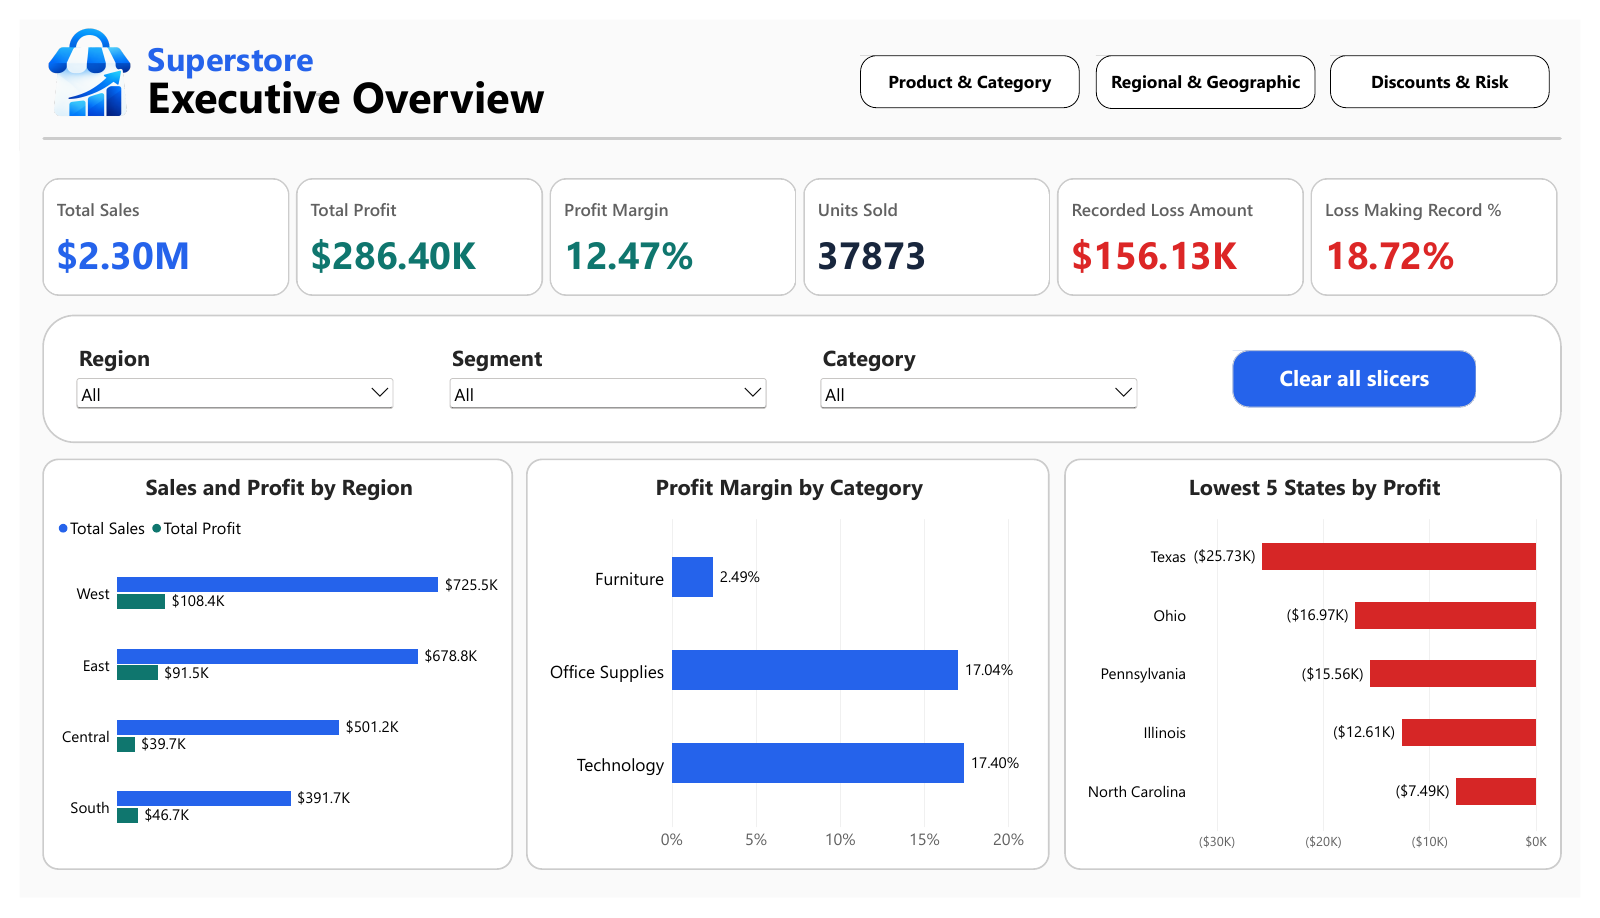

Layout of this report page (visuals, bound fields, positions):
{"tool":"powerbi","page":{"name":"Executive Overview","canvas":[1920,1080],"ordinal":0},"visuals":[{"type":"cardVisual","fields":{"Data":["Superstore.Total Sales","Superstore.Total Profit","Superstore.Profit Margin","Superstore.Units Sold","Superstore.Loss Amount","Superstore.Loss Record Share"]},"box":[28.3,194.7,1869,145.1],"z":0},{"type":"shape","box":[28.3,362.8,1869,157.5],"z":0,"group":"g2"},{"type":"clusteredBarChart","title":"Sales and Profit by Region","fields":{"Category":["Superstore.Region"],"Y":["Superstore.Total Sales","Superstore.Total Profit"]},"box":[28.3,539.8,578.8,506.2],"z":1000},{"type":"slicer","fields":{"Values":["Superstore.Region"]},"box":[65.5,398.2,400,90],"z":2000,"group":"g2"},{"type":"clusteredBarChart","title":"Profit Margin by Category","fields":{"Category":["Superstore.Category"],"Y":["Superstore.Profit Margin"]},"box":[623,539.8,644.2,506.2],"z":2000},{"type":"slicer","fields":{"Values":["Superstore.Segment"]},"box":[523.9,398.2,400,90],"z":3000,"group":"g2"},{"type":"clusteredBarChart","title":"Lowest 5 States by Profit","fields":{"Category":["Superstore.State"],"Y":["Superstore.Total Profit"]},"box":[1285,539.8,612.4,506.2],"z":3000},{"type":"actionButton","box":[1033.6,44.2,270,65],"z":4000},{"type":"slicer","fields":{"Values":["Superstore.Category"]},"box":[980.5,398.2,400,90],"z":4000,"group":"g2"},{"type":"group","id":"g1","title":"Group 1","box":[157.5,21.2,500,110],"z":5000},{"type":"actionButton","box":[1492,407,300,70],"z":5000,"group":"g2"},{"type":"actionButton","box":[1323.9,44.2,270,65.5],"z":6000},{"type":"image","box":[0,0,173.5,132.7],"z":7000},{"type":"textbox","title":"Superstore","box":[157.5,21.2,214.8,73.3],"z":8000,"group":"g1"},{"type":"actionButton","box":[1612.4,44.2,270,65],"z":8000},{"type":"shape","box":[28.3,111.5,1869,69],"z":9000},{"type":"group","id":"g2","title":"Group 2","box":[28.3,362.8,1869,157.5],"z":10000},{"type":"textbox","title":"Executive Overview","box":[157.5,57.9,500,73.3],"z":17001,"group":"g1"}]}

Visuals, with their boxes in screenshot pixels (x1, y1, x2, y2), scaled from the page's 1920x1080 canvas onto the 1600x918 screenshot:
cardVisual - Superstore.Total Sales x Superstore.Total Profit: [left=24, top=165, right=1581, bottom=289]
shape: [left=24, top=308, right=1581, bottom=442]
"Sales and Profit by Region" clusteredBarChart: [left=24, top=459, right=506, bottom=889]
slicer - Superstore.Region: [left=55, top=338, right=388, bottom=415]
"Profit Margin by Category" clusteredBarChart: [left=519, top=459, right=1056, bottom=889]
slicer - Superstore.Segment: [left=437, top=338, right=770, bottom=415]
"Lowest 5 States by Profit" clusteredBarChart: [left=1071, top=459, right=1581, bottom=889]
actionButton: [left=861, top=38, right=1086, bottom=93]
slicer - Superstore.Category: [left=817, top=338, right=1150, bottom=415]
"Group 1" group: [left=131, top=18, right=548, bottom=112]
actionButton: [left=1243, top=346, right=1493, bottom=405]
actionButton: [left=1103, top=38, right=1328, bottom=93]
image: [left=0, top=0, right=145, bottom=113]
"Superstore" textbox: [left=131, top=18, right=310, bottom=80]
actionButton: [left=1344, top=38, right=1569, bottom=93]
shape: [left=24, top=95, right=1581, bottom=153]
"Group 2" group: [left=24, top=308, right=1581, bottom=442]
"Executive Overview" textbox: [left=131, top=49, right=548, bottom=112]
